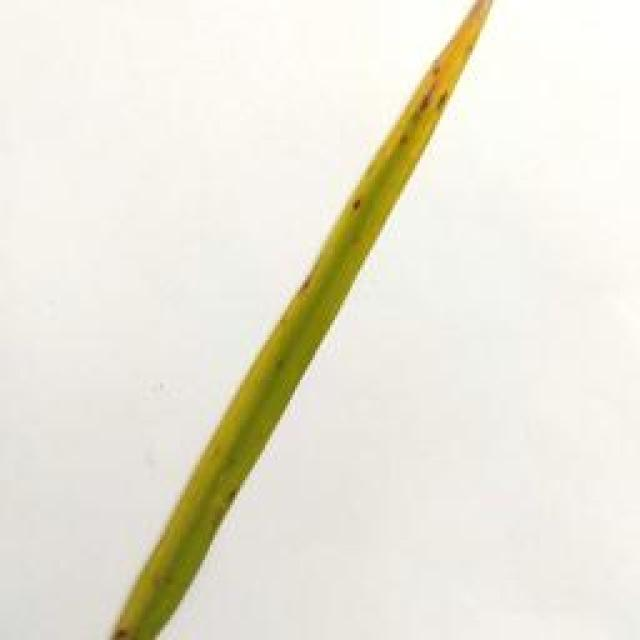Bacterial_Blight: (368, 0, 522, 182)
Brown_Spot: (205, 480, 253, 535), (414, 79, 473, 122), (288, 270, 318, 312), (342, 200, 374, 232), (102, 616, 144, 640)
